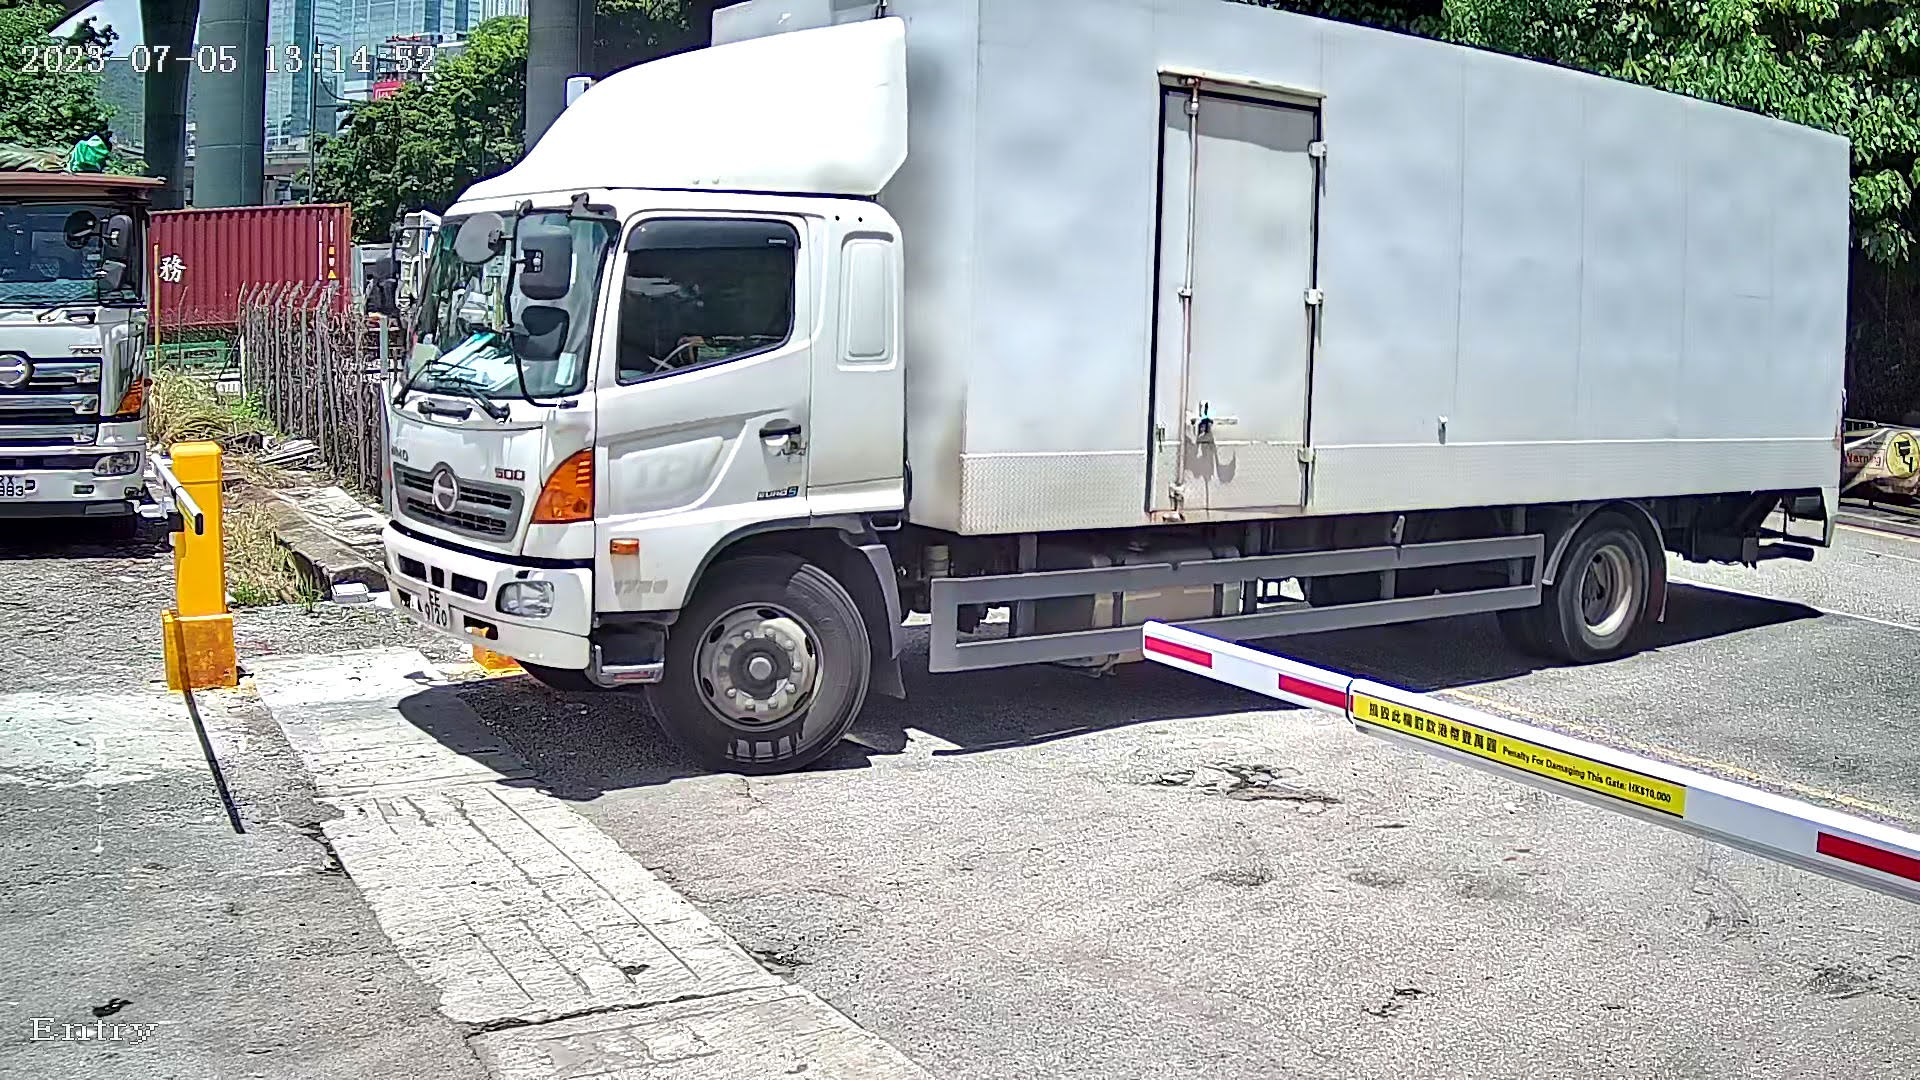truck_large: (334, 12, 1871, 793)
